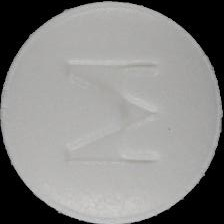60429-208: (0, 0, 224, 224)
